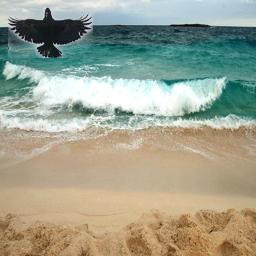Crow: (8, 7, 93, 58)
